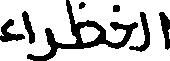ء: (0, 18, 23, 42)
ا: (21, 9, 35, 44), (157, 10, 168, 50)
خ: (110, 3, 137, 52)
ر: (33, 25, 55, 58)
ظ: (65, 0, 104, 49)
ل: (137, 9, 151, 51)
